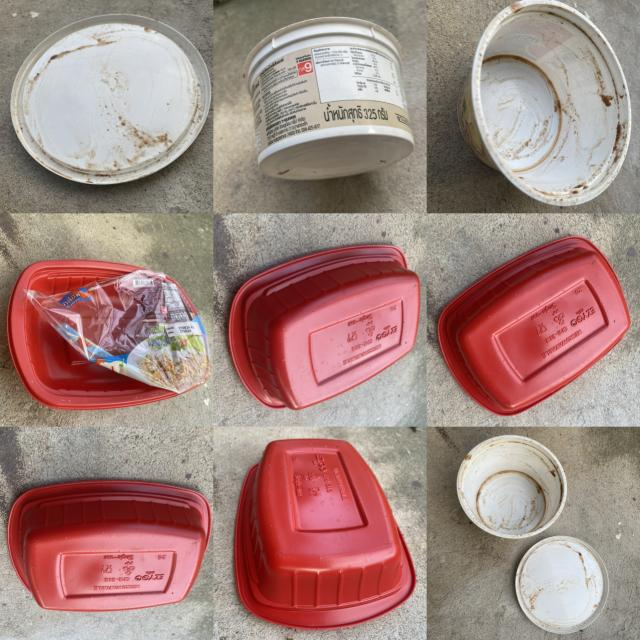Single-Use-Plastic: (458, 0, 631, 206), (438, 236, 630, 415), (235, 439, 415, 629), (11, 15, 211, 183), (229, 245, 420, 410), (8, 260, 211, 409), (244, 18, 414, 179), (8, 481, 211, 611), (456, 435, 568, 538), (515, 536, 609, 634)
